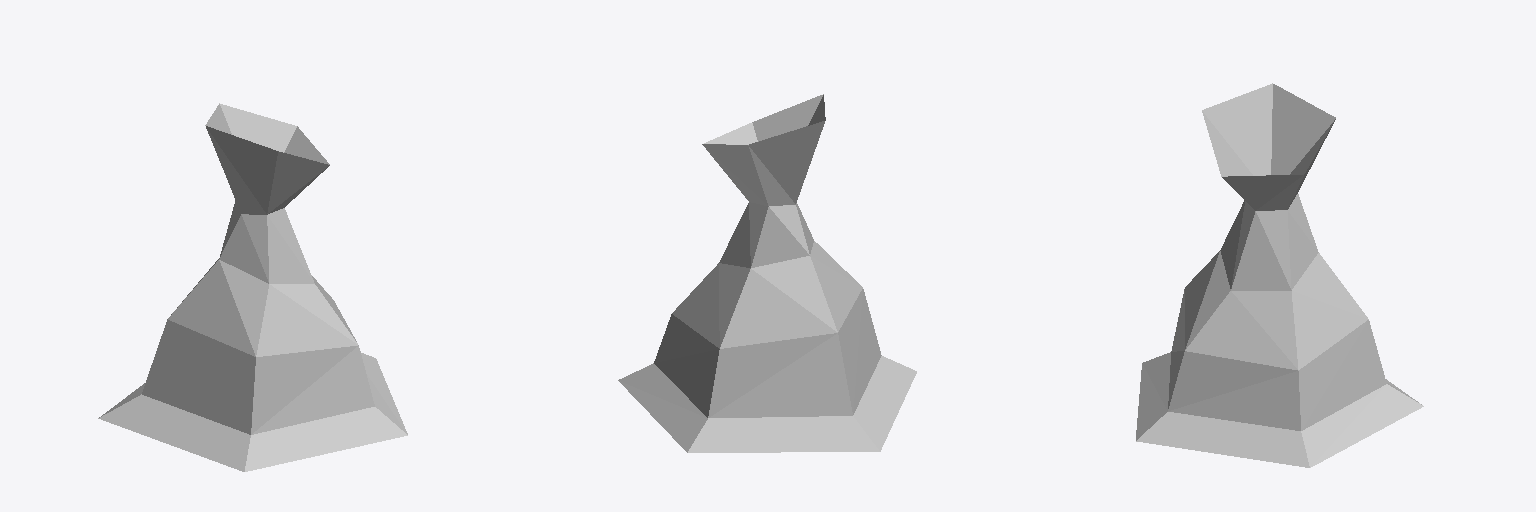
Rendered from westfallhaystack01.obj.
3 views of the same model, side by side, from view 1: azimuth 30°, elevation 25°; view 2: azimuth 150°, elevation 25°; view 3: azimuth 270°, elevation 25° (orthographic).
Visible parts, largest first — view 1: WestFallHayStack01; view 2: WestFallHayStack01; view 3: WestFallHayStack01.
Boxes of the visible parts, box(x1,y1,x2,y2) form: WestFallHayStack01: box(98, 103, 407, 471); WestFallHayStack01: box(618, 94, 916, 452); WestFallHayStack01: box(1136, 83, 1423, 467).
Bounding box in the file's own units: 5.7 × 5.89 × 5.27.